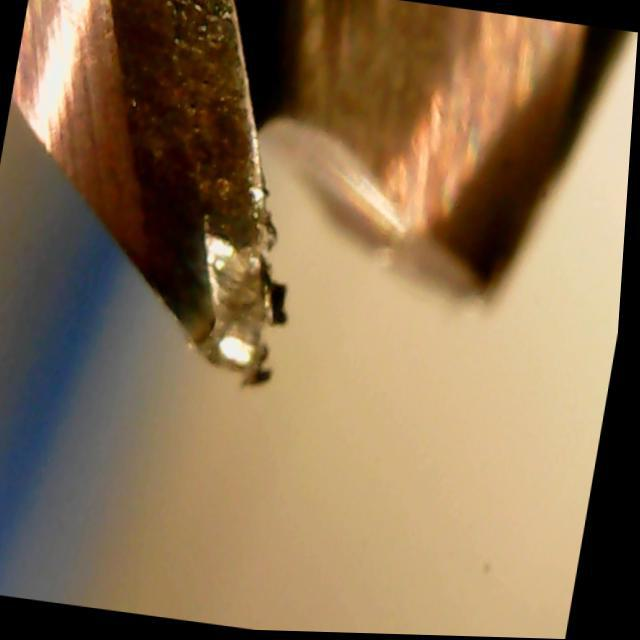Tool-wear-class-3: (93, 60, 352, 413)
